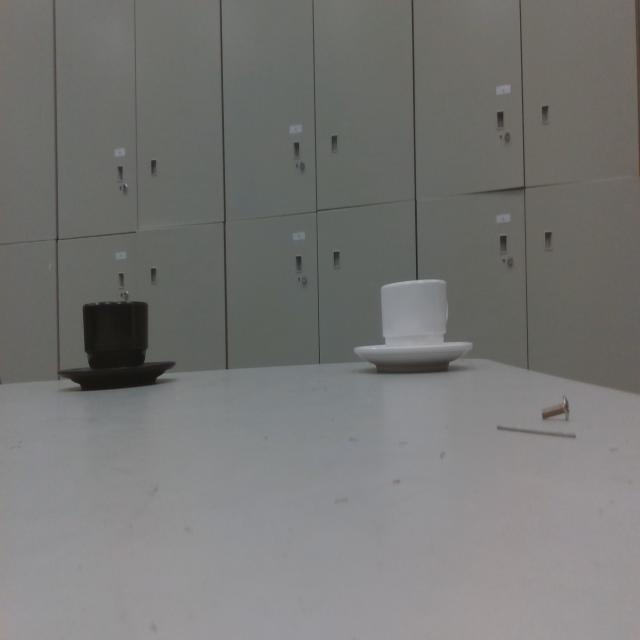black: (57, 299, 175, 393)
white: (352, 277, 474, 374)
